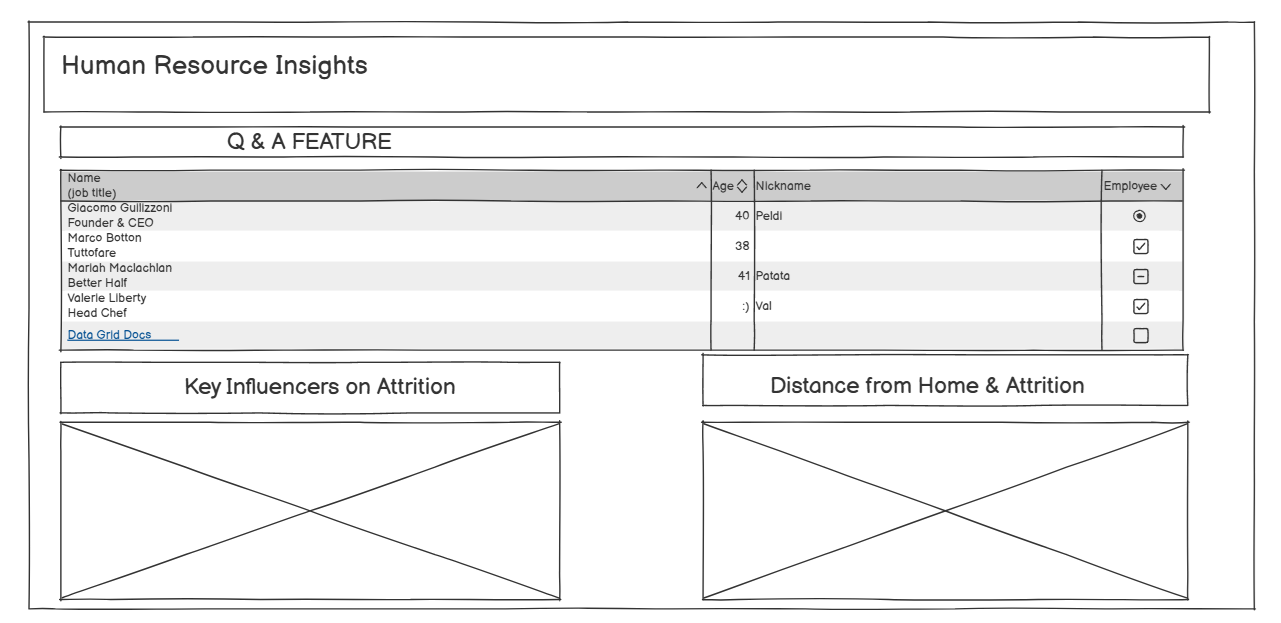

The page's visual inventory and layout, read from the dashboard file:
{"tool":"powerbi","page":{"name":"Dashboard","canvas":[1280,720],"ordinal":3},"visuals":[{"type":"shape","box":[0,0,1280.3,133.9],"z":0},{"type":"shape","box":[0,388.6,576.7,86.2],"z":1000},{"type":"shape","box":[604.5,403,675.8,72.4],"z":2000},{"type":"qnaVisual","box":[0,133.2,1280.3,269.5],"z":3000},{"type":"keyDriversVisual","fields":{"Target":["HR-Employee-Attrition.Attrition"],"ExplainBy":["HR-Employee-Attrition.MonthlyIncome","HR-Employee-Attrition.Department","HR-Employee-Attrition.Gender","HR-Employee-Attrition.RelationshipSatisfaction"]},"box":[0,463.9,576.7,255.4],"z":4000},{"type":"map","fields":{"Category":["HR-Employee-Attrition.DistanceFromHome"],"Series":["HR-Employee-Attrition.Attrition"]},"box":[604,475,676,244],"z":5000}]}

Visuals, with their boxes on the page's 1280x720 design canvas (x1, y1, x2, y2). These are canvas units, not pixel positions in the 1281x623 screenshot, which may show the page scaled, cropped or inside an application window:
shape: [x1=0, y1=0, x2=1280, y2=134]
shape: [x1=0, y1=389, x2=577, y2=475]
shape: [x1=604, y1=403, x2=1280, y2=475]
qnaVisual: [x1=0, y1=133, x2=1280, y2=403]
keyDriversVisual - HR-Employee-Attrition.Attrition x HR-Employee-Attrition.MonthlyIncome: [x1=0, y1=464, x2=577, y2=719]
map - HR-Employee-Attrition.DistanceFromHome x HR-Employee-Attrition.Attrition: [x1=604, y1=475, x2=1280, y2=719]
